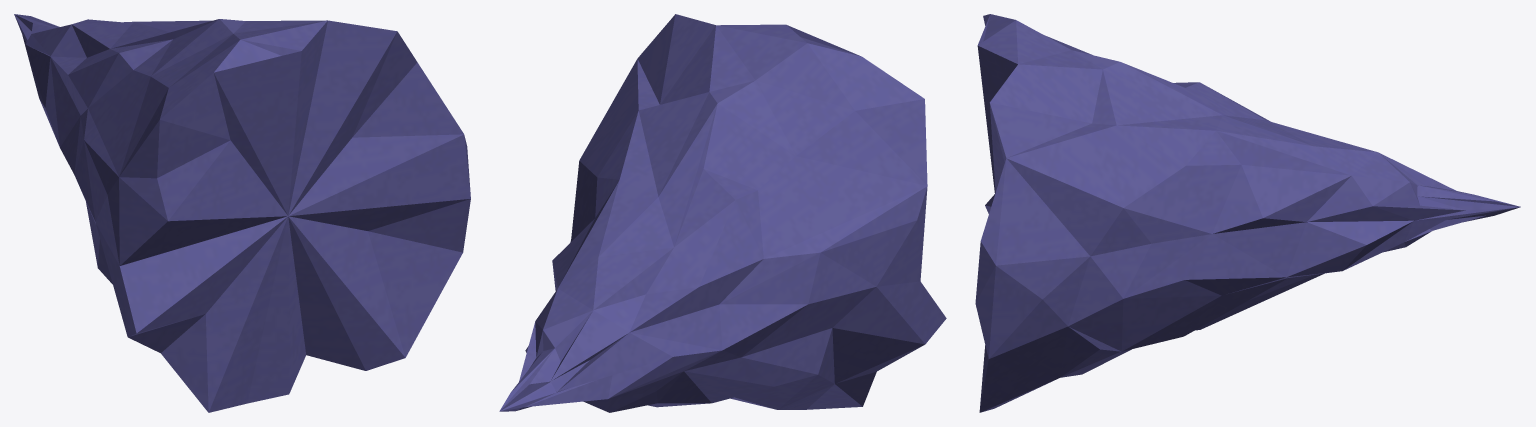
Rendered from Elder_IceColumn.fbx.
3 views of the same model, side by side, from view 1: azimuth 30°, elevation 25°; view 2: azimuth 150°, elevation 25°; view 3: azimuth 270°, elevation 25° (orthographic). The views are drawn at different scales.
Parts seen in each view (by area): view 1: Elder_IceColumn; view 2: Elder_IceColumn; view 3: Elder_IceColumn.
Boxes of the visible parts, x1=… form: Elder_IceColumn: x1=14, y1=14, x2=470, y2=412; Elder_IceColumn: x1=499, y1=14, x2=946, y2=412; Elder_IceColumn: x1=975, y1=14, x2=1520, y2=412.
Size of the model in its own units: 234 by 241 by 344.
2 materials, 2 textured.
